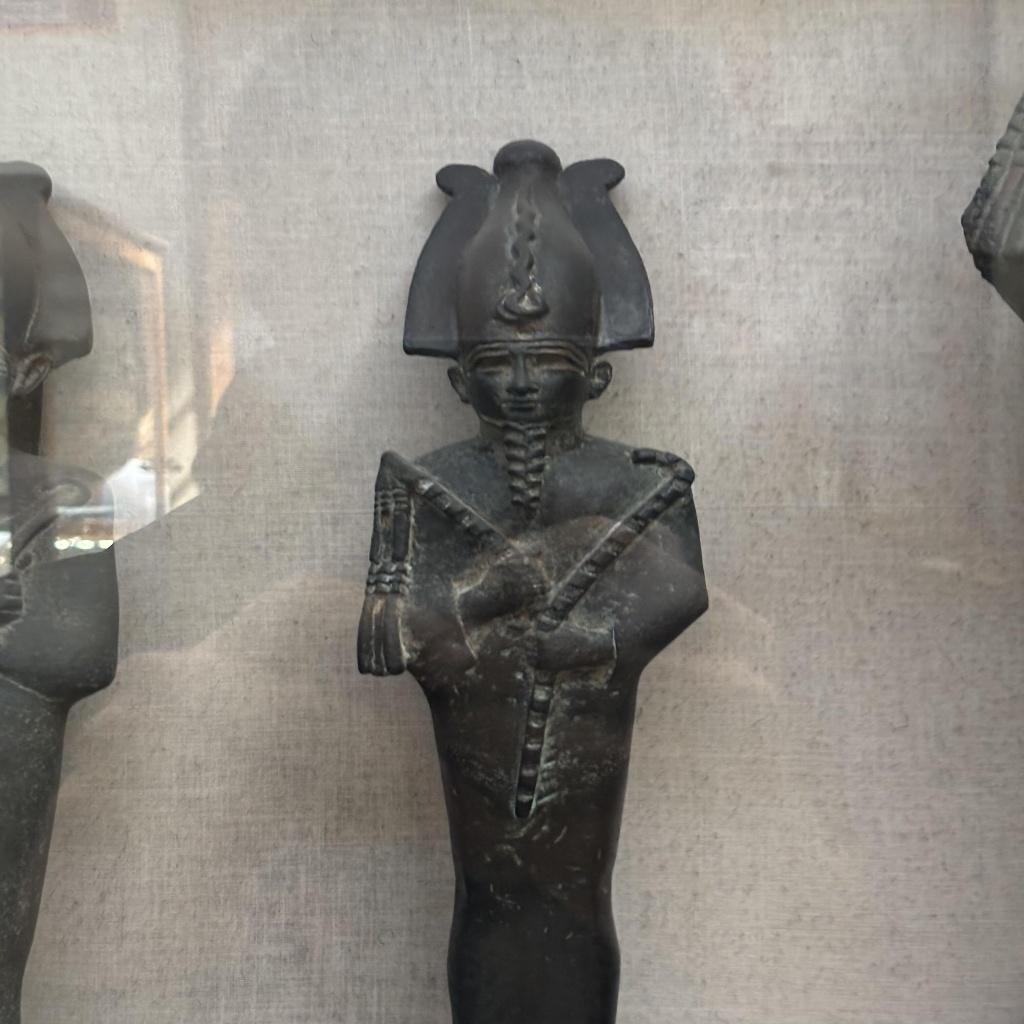Statue of Osiris: (352, 136, 714, 1022)
